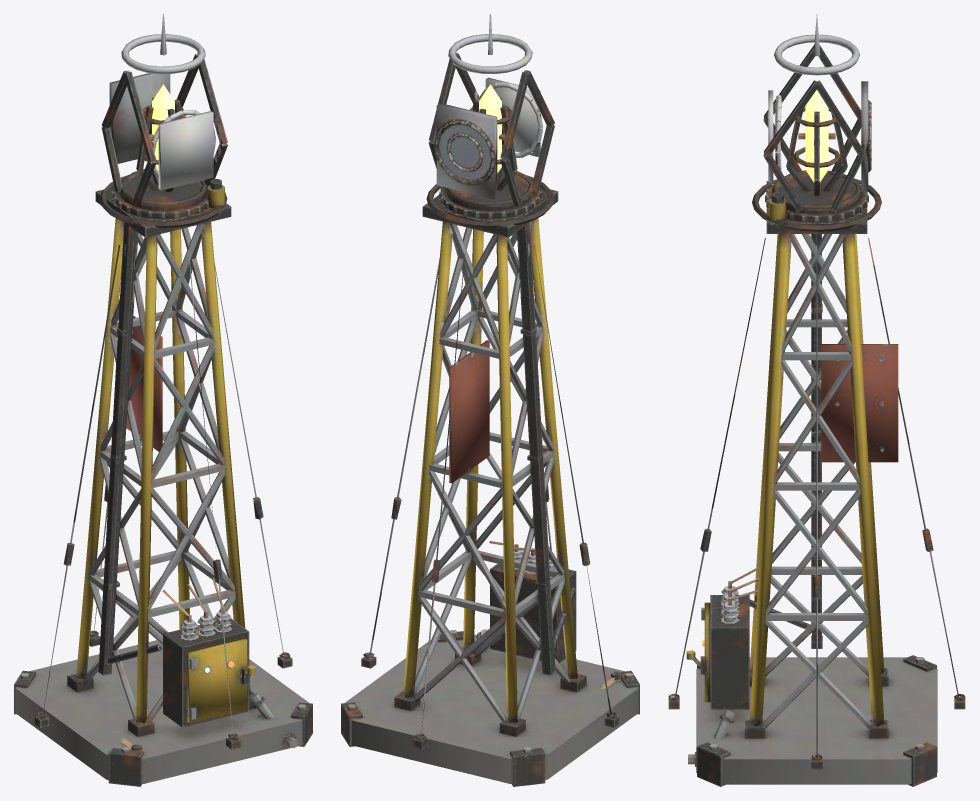
The model's file is farol_cristal.glb.
The picture shows the model from 3 angles, left to right: view 1: azimuth 30°, elevation 25°; view 2: azimuth 150°, elevation 25°; view 3: azimuth 270°, elevation 25°; orthographic projection.
Visible parts, largest first — view 1: farol_cristal_corpo, farol_cristal_m0, farol_cristal_n0; view 2: farol_cristal_corpo, farol_cristal_m0, farol_cristal_n0; view 3: farol_cristal_corpo, farol_cristal_m0, farol_cristal_n0.
Part boxes in pixels (x1,y1,x2,y2): farol_cristal_corpo: [14, 97, 312, 786]; farol_cristal_m0: [101, 14, 227, 210]; farol_cristal_n0: [152, 84, 174, 170]; farol_cristal_corpo: [341, 97, 639, 786]; farol_cristal_m0: [428, 14, 554, 210]; farol_cristal_n0: [479, 84, 501, 173]; farol_cristal_corpo: [668, 106, 965, 786]; farol_cristal_m0: [763, 14, 871, 214]; farol_cristal_n0: [805, 90, 828, 182].
Bounding box in the file's own units: 1.06 × 2.84 × 1.06.
4 materials, 1 textured.
